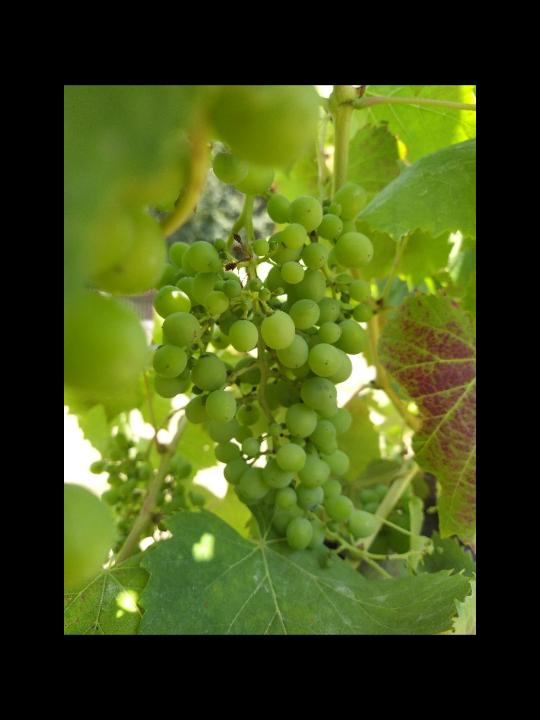grape: (145, 179, 378, 568)
